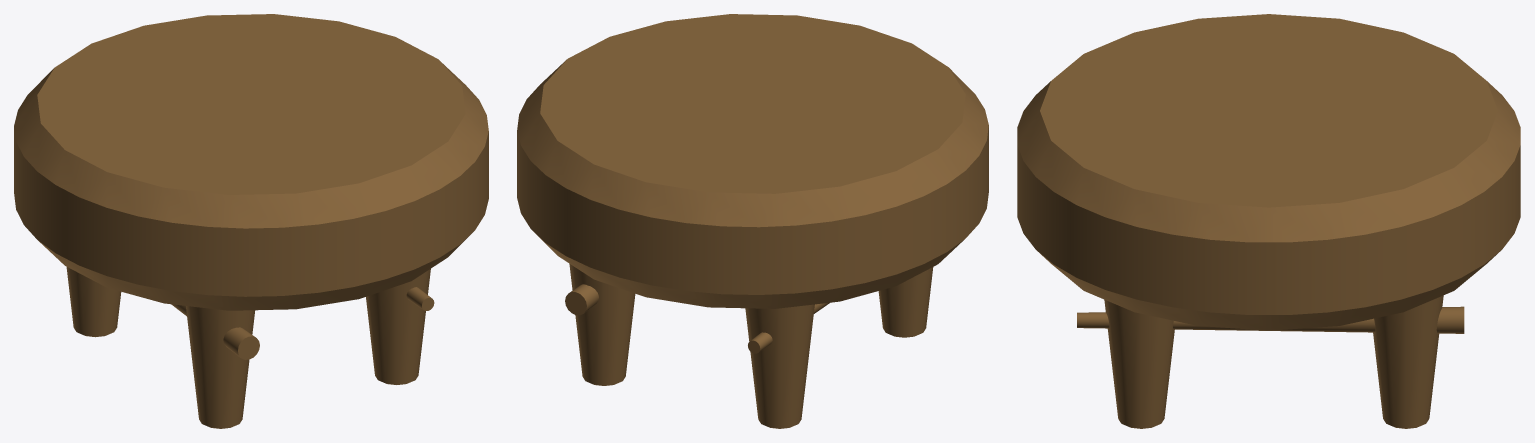
File: Chair3.fbx
3 views of the same model, side by side, from view 1: azimuth 30°, elevation 25°; view 2: azimuth 150°, elevation 25°; view 3: azimuth 270°, elevation 25° (orthographic). The views are drawn at different scales.
Parts seen in each view (by area): view 1: Chair5; view 2: Chair5; view 3: Chair5.
Boxes of the visible parts, x1=… form: Chair5: x1=14, y1=14, x2=488, y2=428; Chair5: x1=517, y1=14, x2=988, y2=428; Chair5: x1=1017, y1=14, x2=1520, y2=428.
Size of the model in its own units: 2.14 by 1.24 by 2.14.
